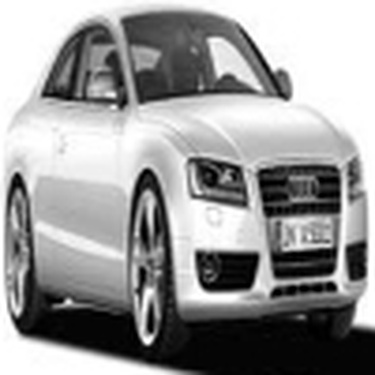car: (1, 3, 371, 363)
